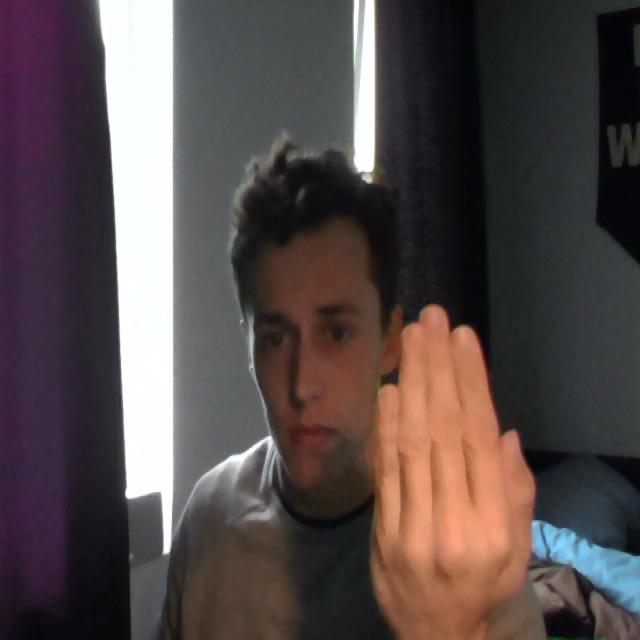forward: (356, 284, 535, 628)
